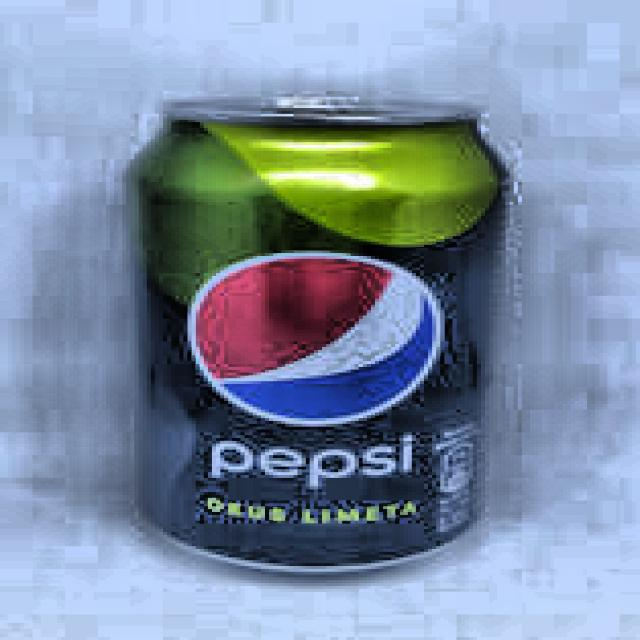Cans: (122, 94, 520, 580)
